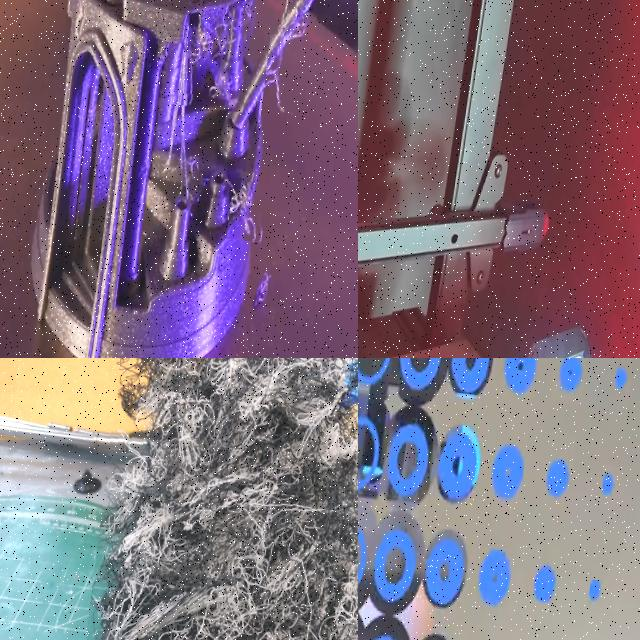spaghetti: (102, 358, 358, 640), (169, 0, 256, 112), (260, 6, 318, 122), (226, 172, 274, 244), (249, 270, 279, 314)
